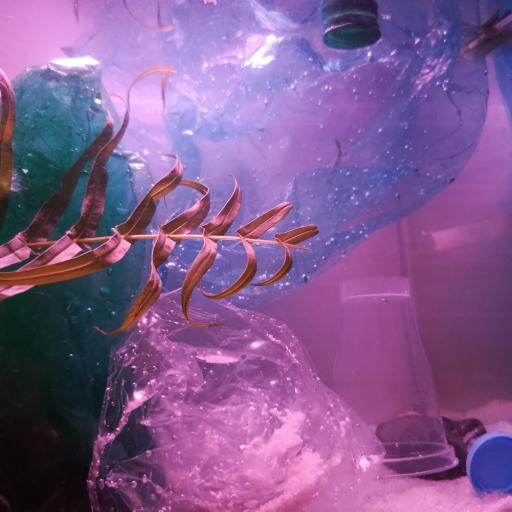bottle_cap: (467, 430, 512, 494), (324, 14, 382, 49)
plastic_bag: (62, 0, 491, 302), (96, 282, 387, 512), (0, 58, 151, 447)
plastic_cup: (334, 276, 459, 475)
